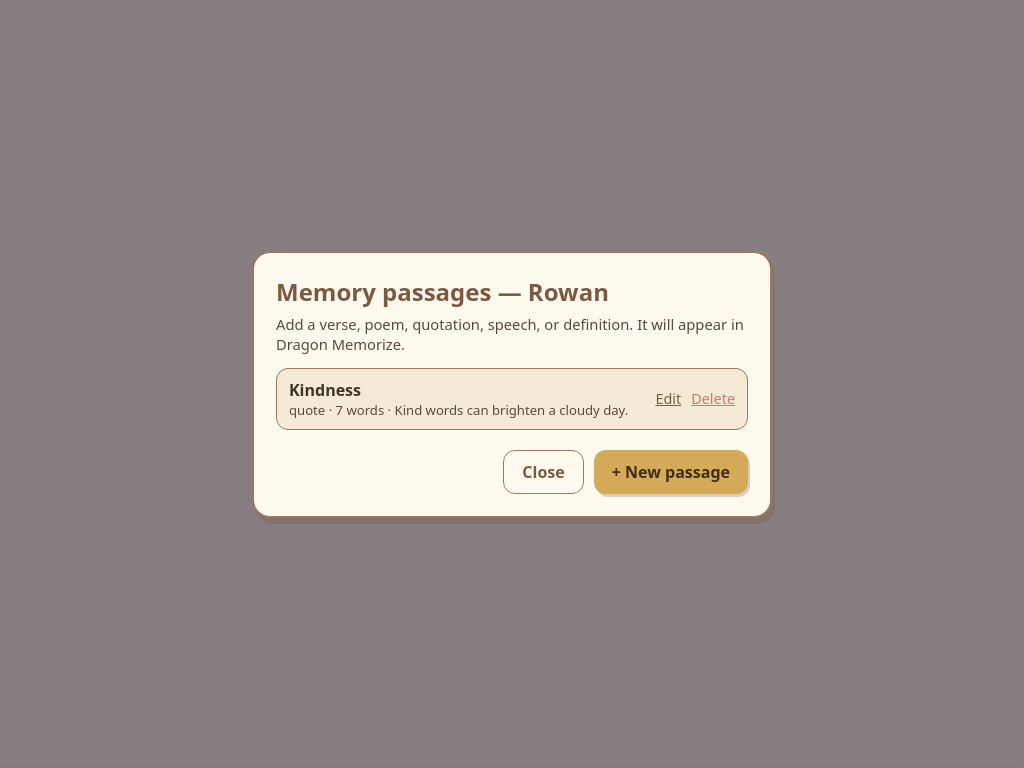
Test: Dragon Memorize rendered experience › renders the parent passage list and child-friendly passage editor
The image size is (1024, 768).
What coordinates should you click on to do the following:
click the button "+ New passage"
I would click on:
 (671, 472)
Its box is [594, 450, 748, 494].
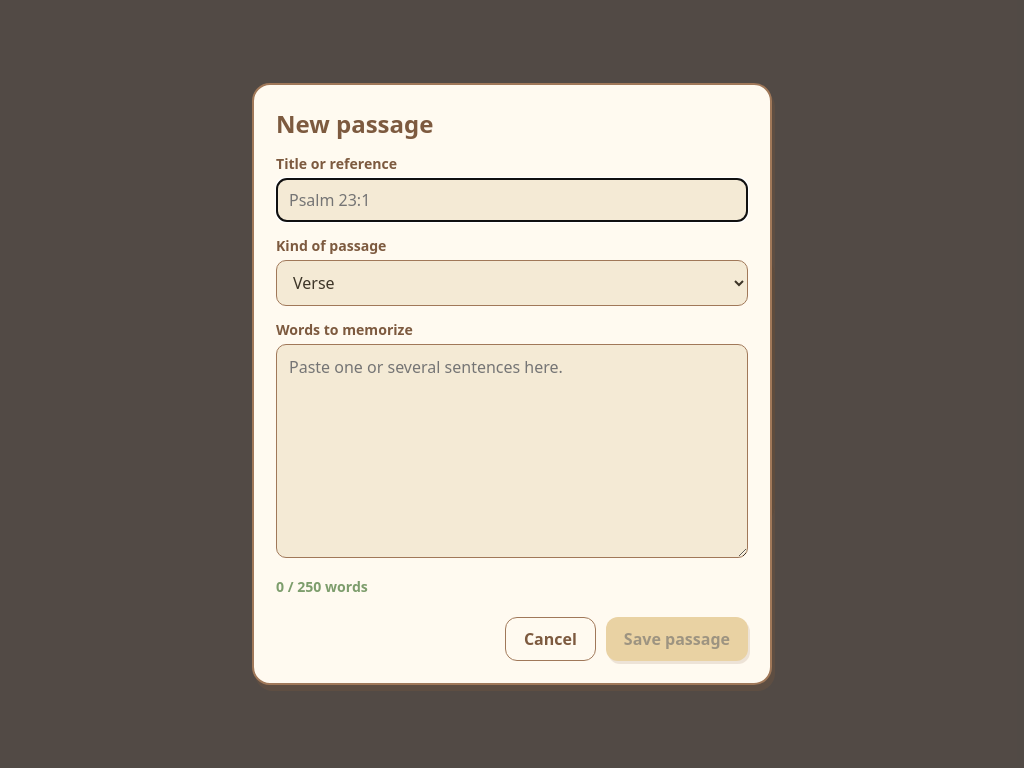
Expected: the dialog named "New memory passage" is shown
Expected: the text box labelled "Words to memorize" is shown, [276, 344, 748, 558]
